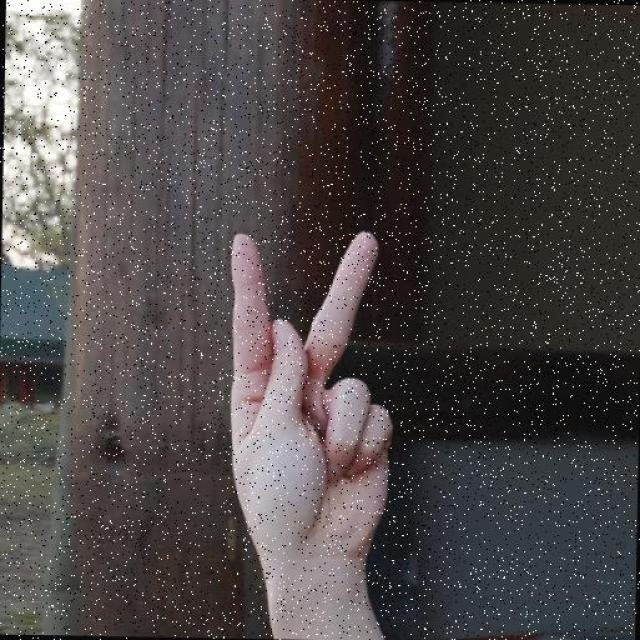K: (222, 225, 401, 573)
